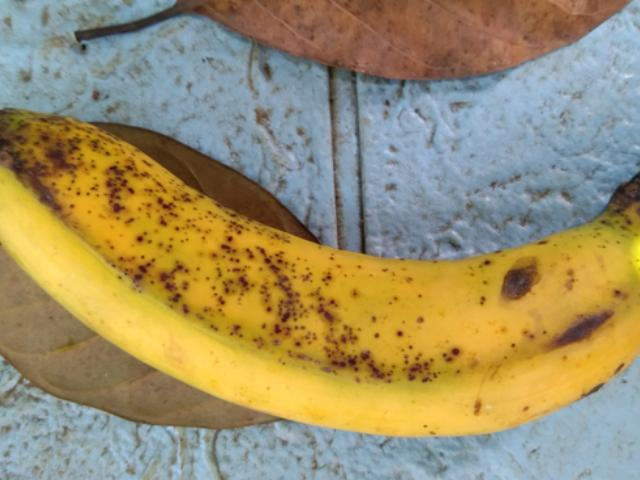ripe: (10, 87, 639, 454)
